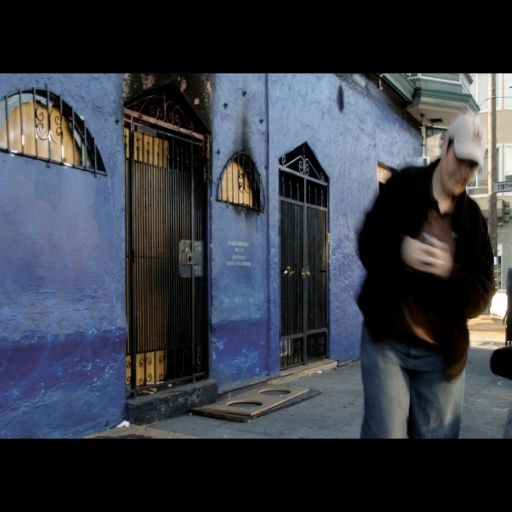hand: (411, 236, 451, 276), (410, 234, 435, 270)
